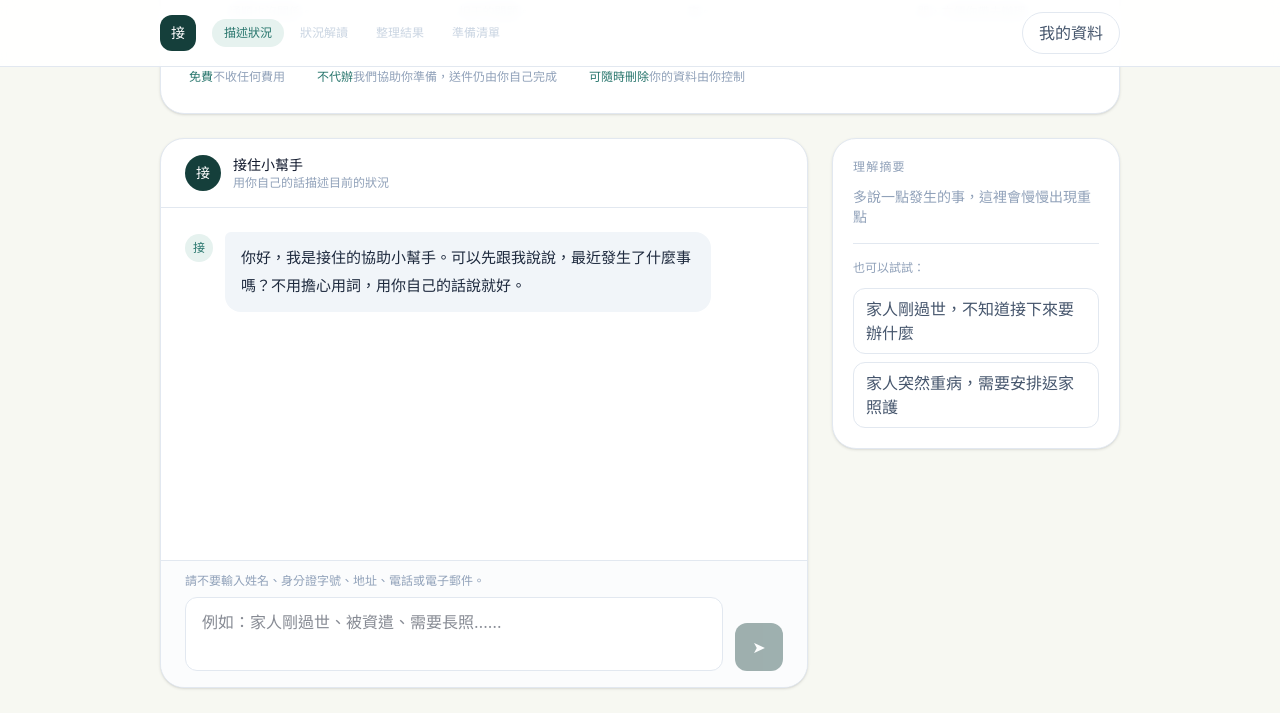
Test: NavigatorFlow › collects a few turns of chat, then confirms into the interpretation screen
This screenshot has width=1280, height=713.
(page scrolled)
Type "家人剛過世，不知道接下來要辦什麼" into the text box named "輸入訊息" at (454, 634), box [185,597,723,671]
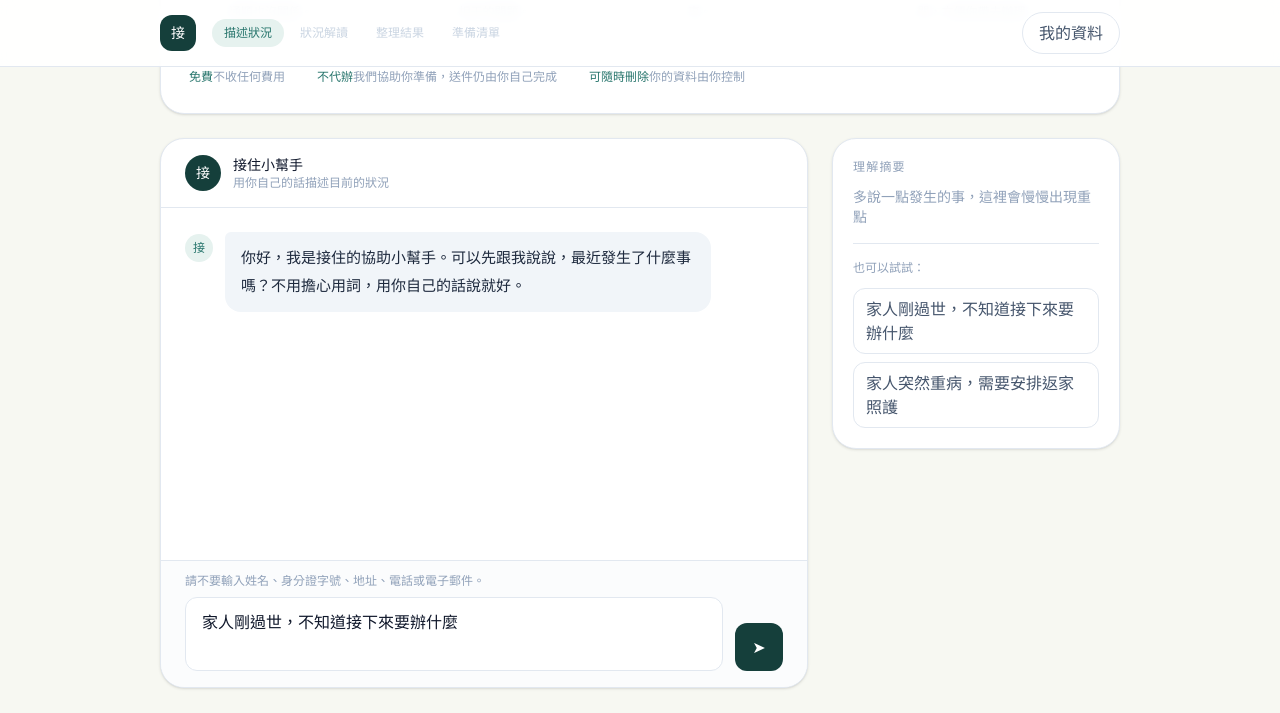
Click the button named "送出" at (759, 647), box [735,623,783,671]
(page scrolled)
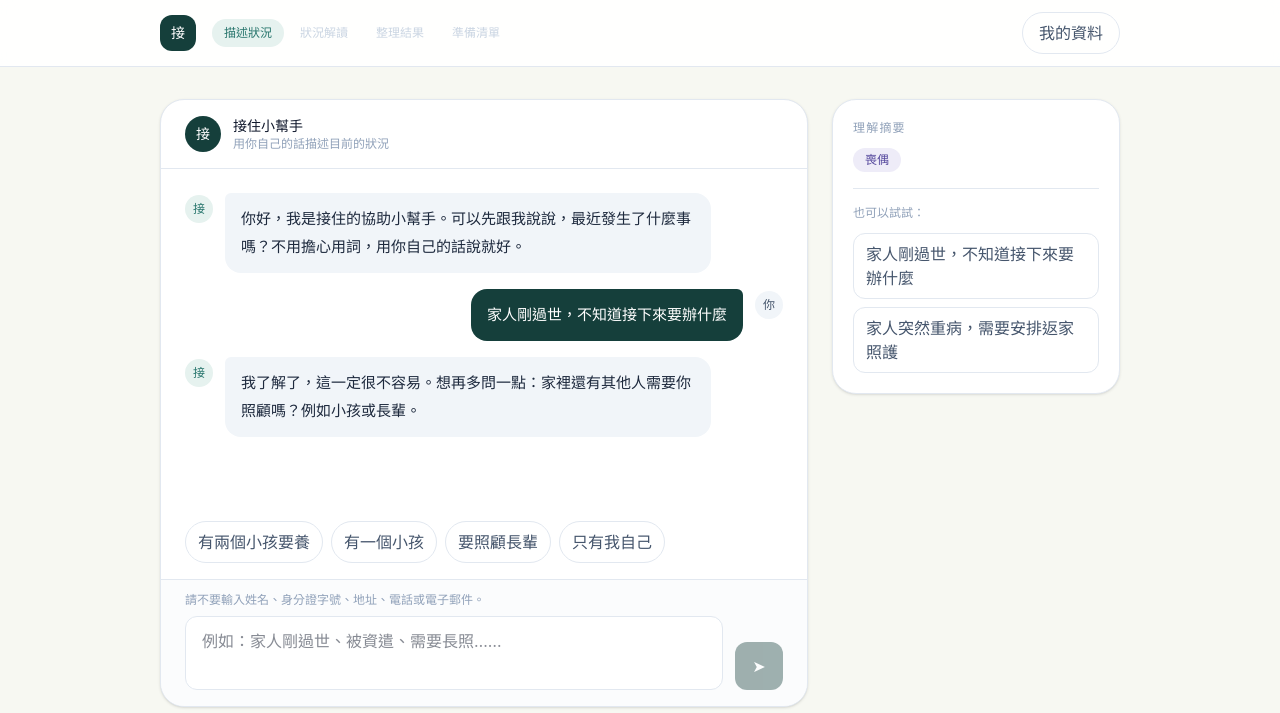
Result: the text "喪偶" is shown at [853,148,901,172]
Click the button "有兩個小孩要養" at (254, 542), box [185,521,323,563]
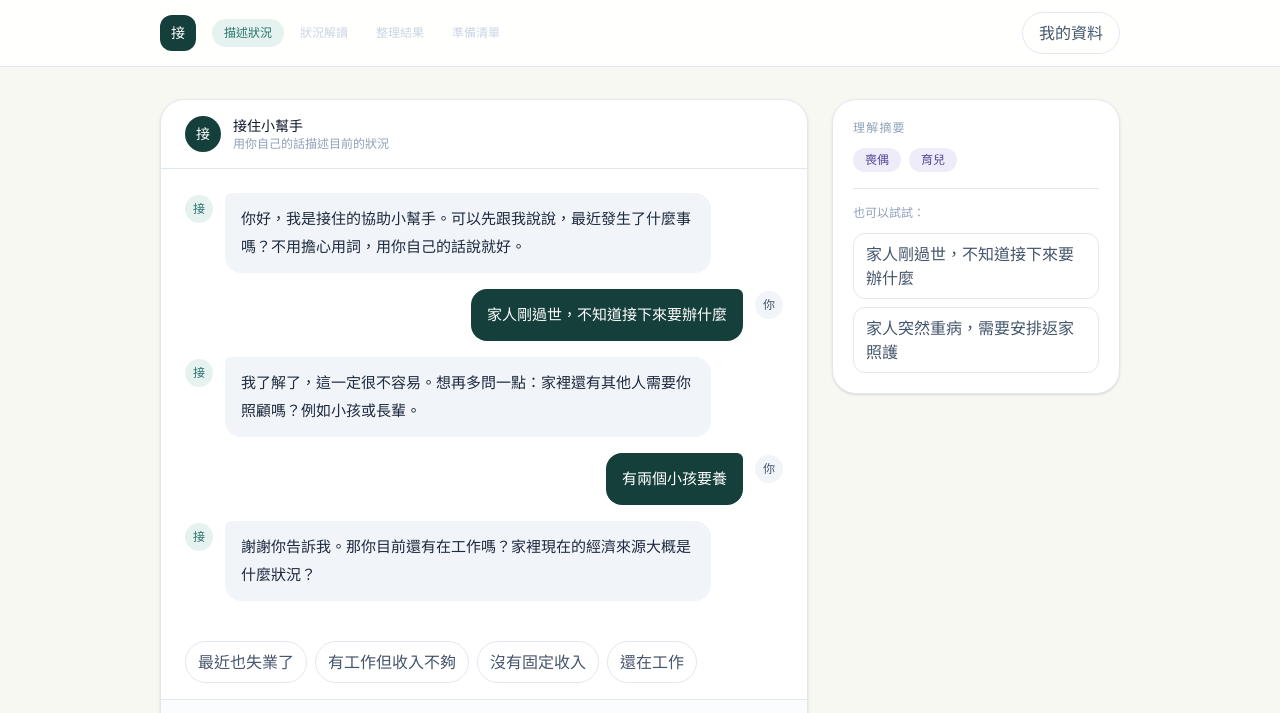
Click the button "最近也失業了" at (246, 662), box [185,641,307,683]
(page scrolled)
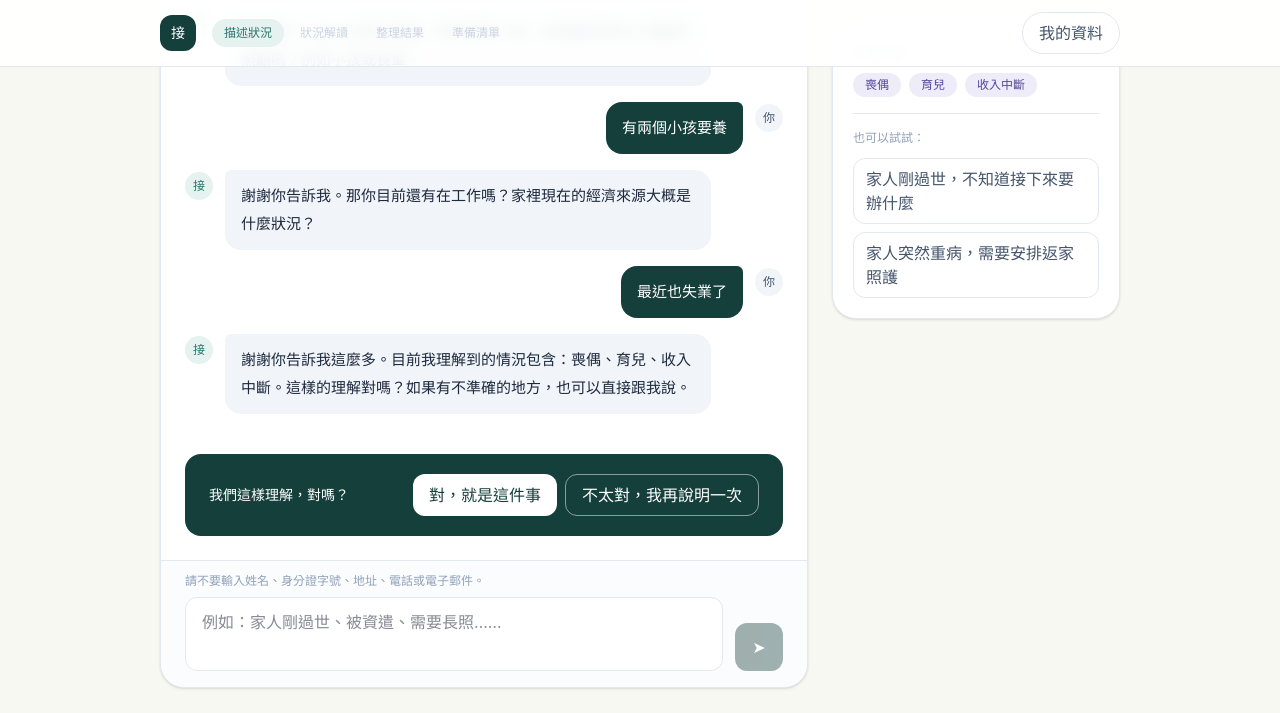
Click the button "對，就是這件事" at (485, 495), box [413,474,557,516]
(page scrolled)
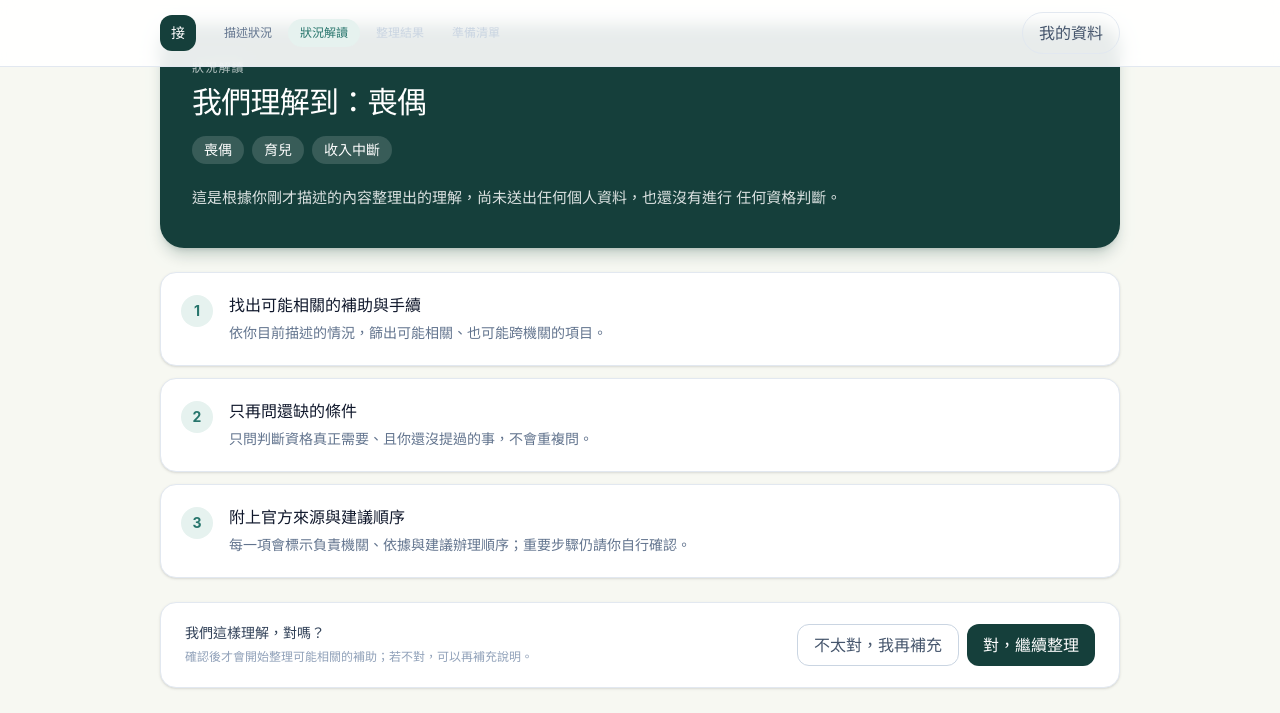
Result: the text "喪偶" is shown at [192,136,244,164]
Result: the heading "我們理解到：喪偶" is shown at [192,84,426,120]
